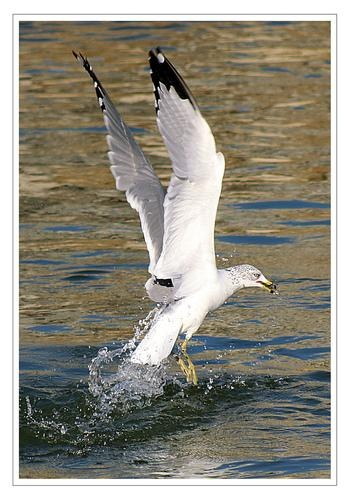bird: (74, 45, 273, 381)
